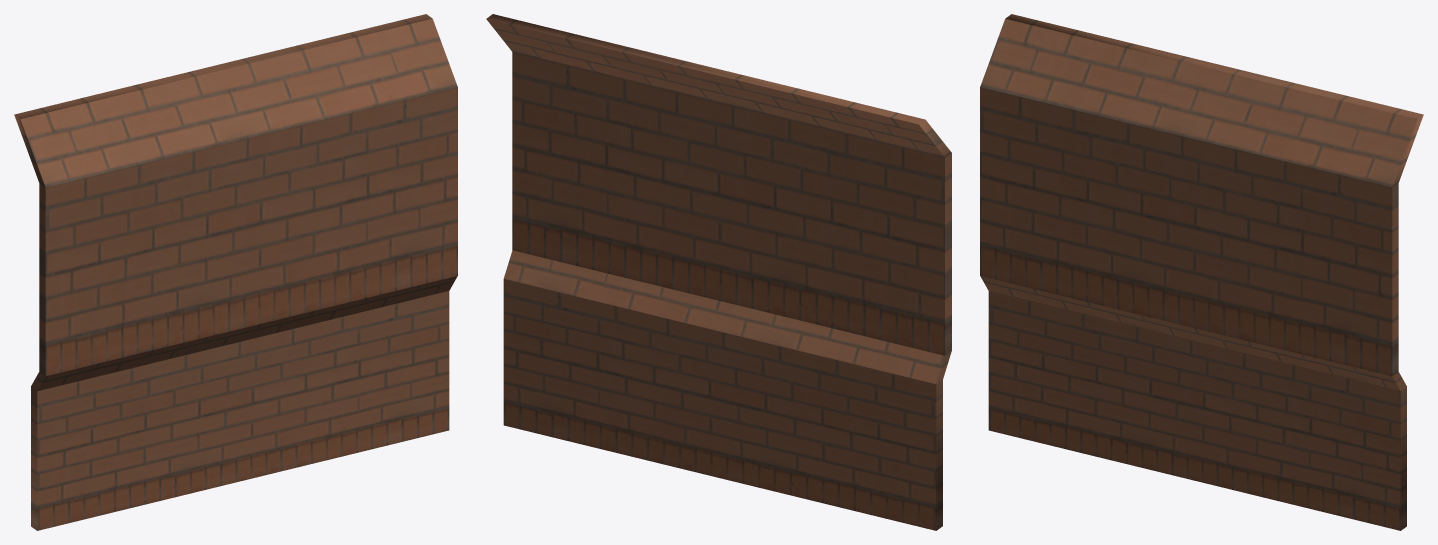
File: ExteriorWall_Art.fbx
3 views of the same model, side by side, from view 1: azimuth 30°, elevation 25°; view 2: azimuth 150°, elevation 25°; view 3: azimuth 330°, elevation 25° (orthographic). The views are drawn at different scales.
Visible parts, largest first — view 1: ExteriorWall_Art; view 2: ExteriorWall_Art; view 3: ExteriorWall_Art.
Boxes of the visible parts, box(x1,y1,x2,y2) form: ExteriorWall_Art: box(14, 14, 457, 530); ExteriorWall_Art: box(486, 14, 951, 530); ExteriorWall_Art: box(980, 14, 1423, 530).
Bounding box in the file's own units: 6.32 × 5.86 × 0.8361.
